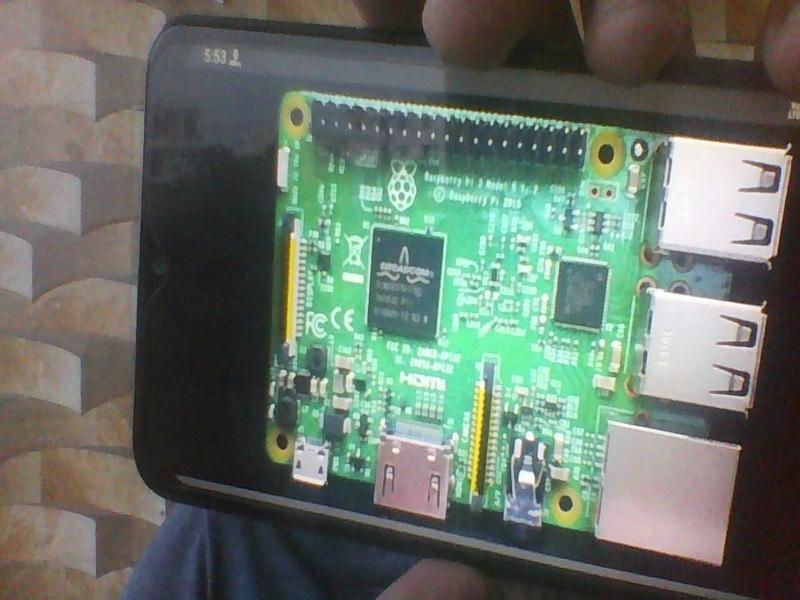aud: (501, 427, 548, 545)
eth: (595, 423, 740, 567)
usb: (650, 129, 791, 269), (633, 286, 767, 420)
